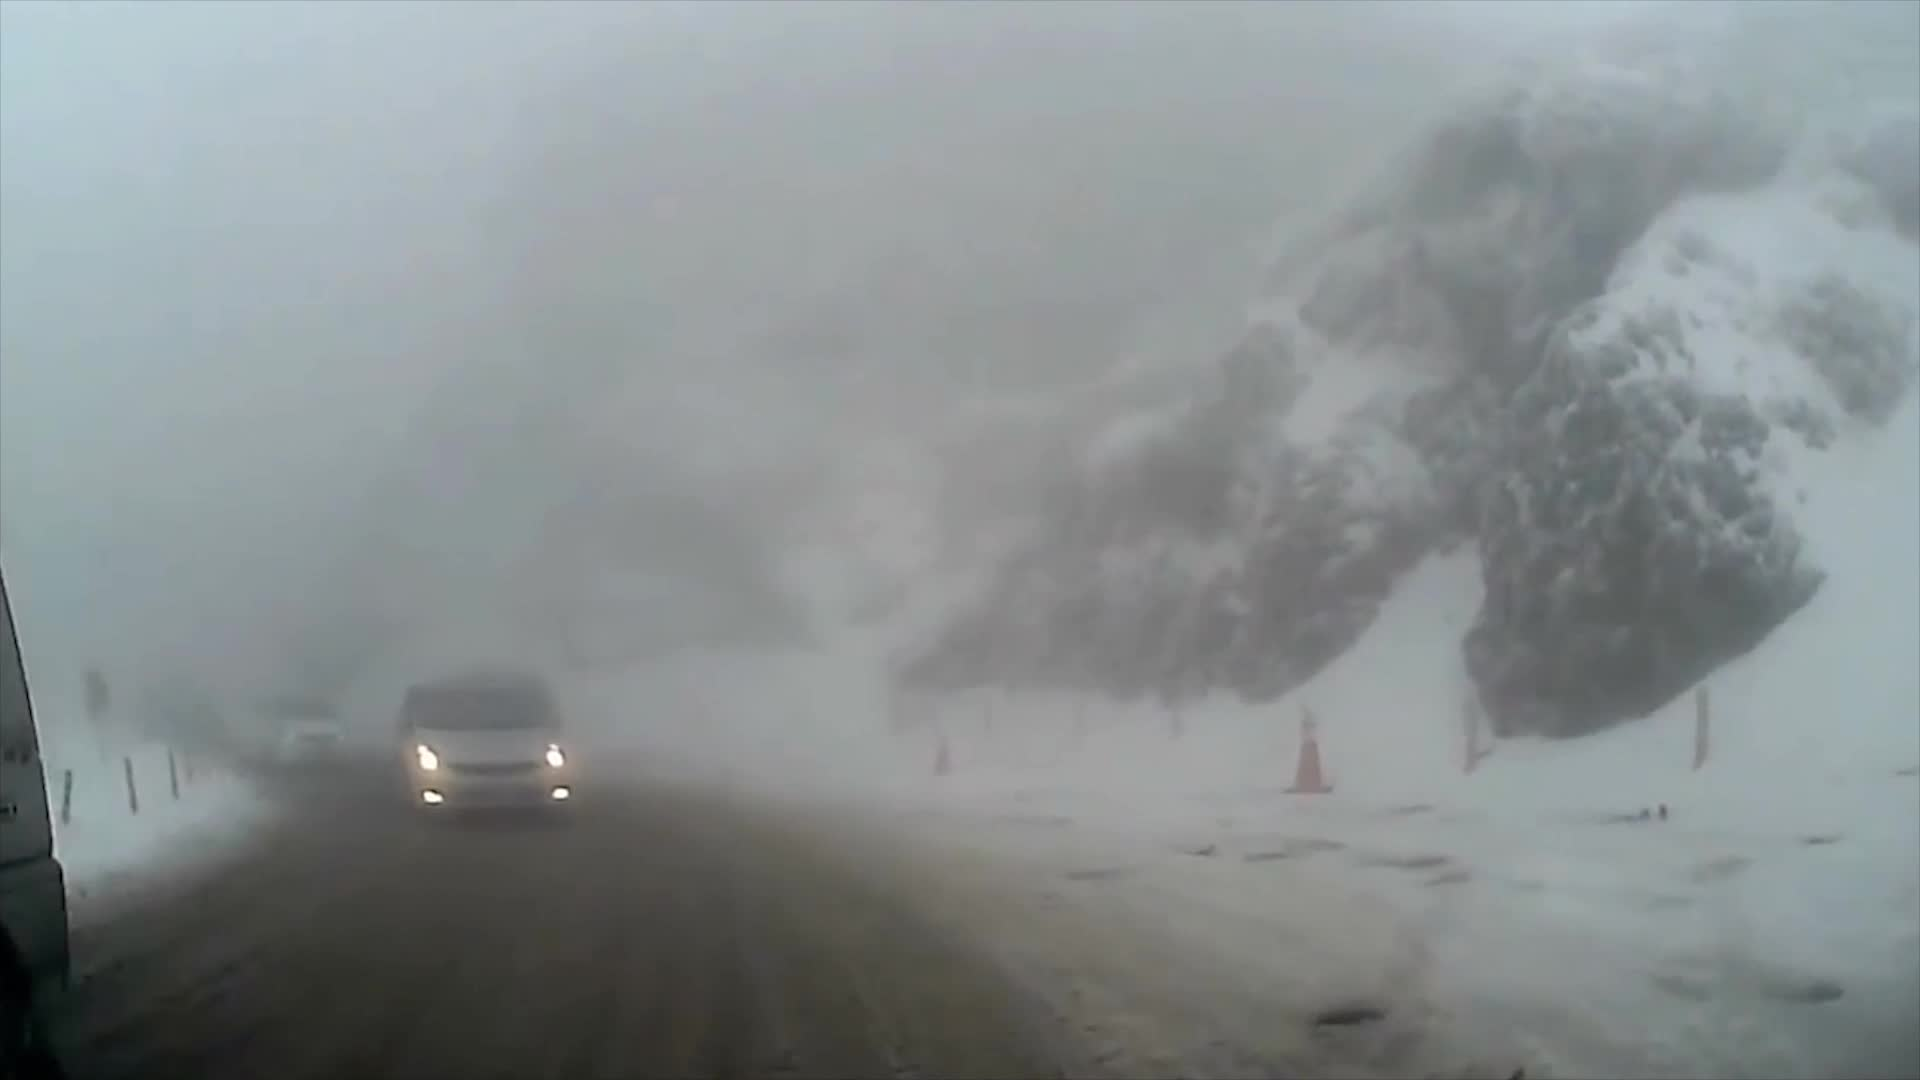vehicle: (0, 574, 80, 1080), (389, 676, 571, 829)
